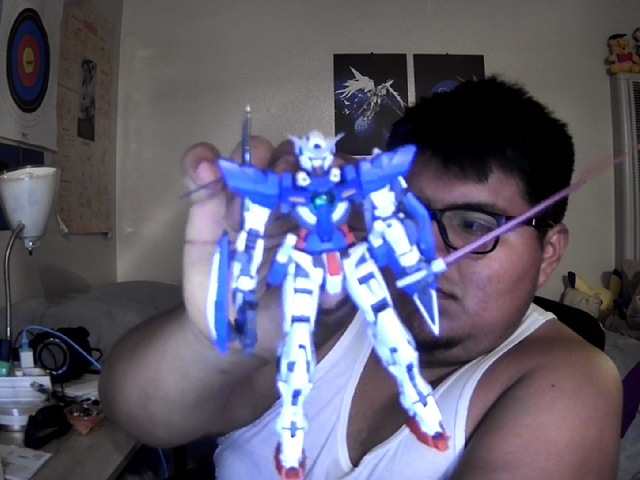Exia: (206, 105, 640, 480)
